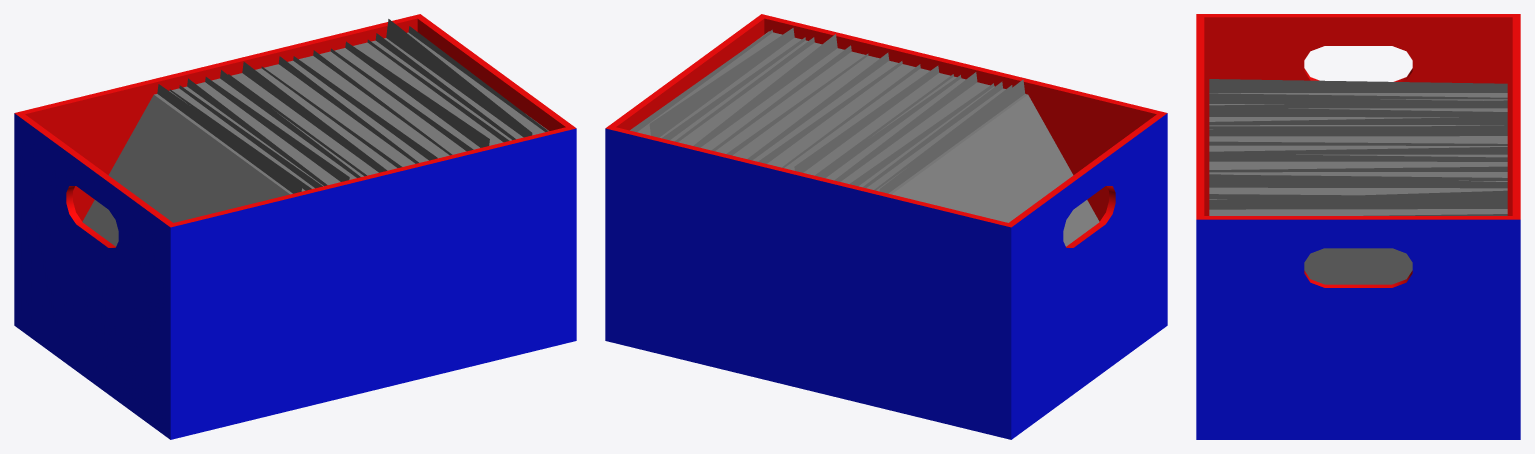
The model's file is Her_boxoffiles_ZW.fbx.
3 views of the same model, side by side, from view 1: azimuth 30°, elevation 25°; view 2: azimuth 150°, elevation 25°; view 3: azimuth 270°, elevation 25° (orthographic). The views are drawn at different scales.
Parts seen in each view (by area): view 1: Box001, Box003; view 2: Box001, Box003; view 3: Box001, Box003.
Boxes of the visible parts, x1=… form: Box001: x1=14, y1=14, x2=576, y2=439; Box003: x1=82, y1=19, x2=548, y2=246; Box001: x1=605, y1=14, x2=1167, y2=439; Box003: x1=630, y1=28, x2=1099, y2=246; Box001: x1=1196, y1=14, x2=1520, y2=439; Box003: x1=1209, y1=79, x2=1507, y2=284.
Size of the model in its own units: 30 by 15.66 by 20.
